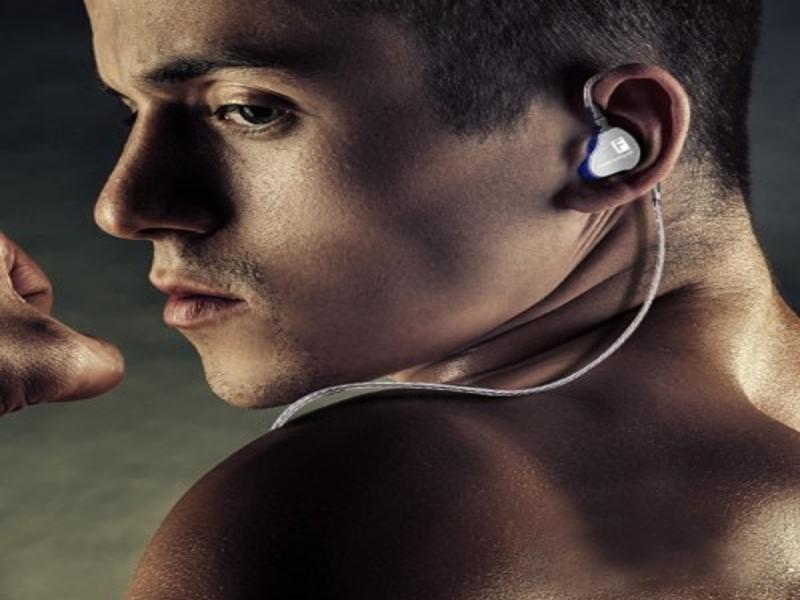headphone: (580, 119, 648, 180)
